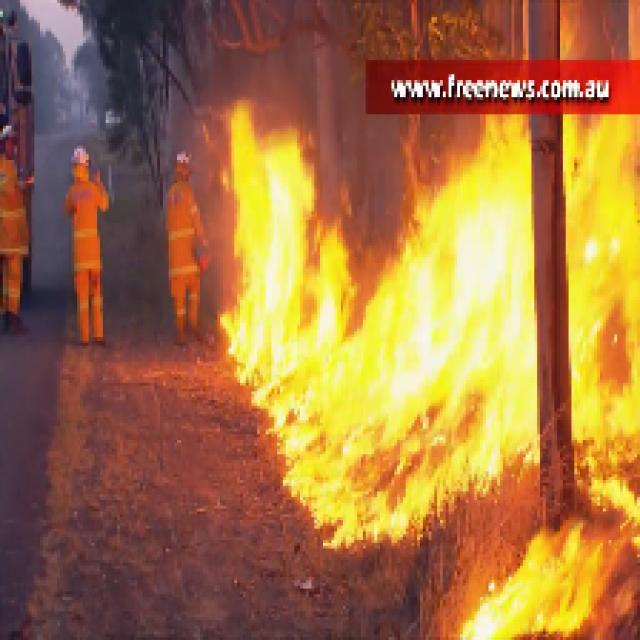fire: (228, 128, 637, 640)
